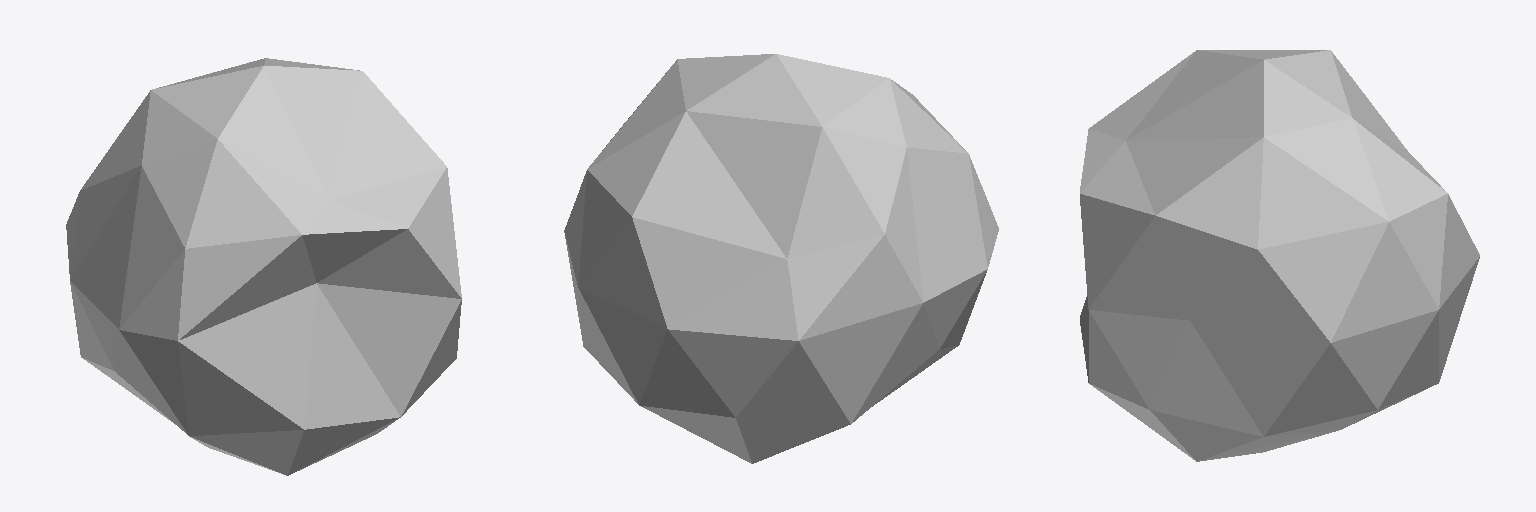
The model's file is asteroide.obj.
3 views of the same model, side by side, from view 1: azimuth 30°, elevation 25°; view 2: azimuth 150°, elevation 25°; view 3: azimuth 270°, elevation 25° (orthographic).
Visible parts, largest first — view 1: Icosphere; view 2: Icosphere; view 3: Icosphere.
Boxes of the visible parts, box(x1,y1,x2,y2) form: Icosphere: box(66, 58, 461, 475); Icosphere: box(564, 54, 998, 463); Icosphere: box(1080, 50, 1479, 461).
Size of the model in its own units: 1.9 by 2 by 1.85.